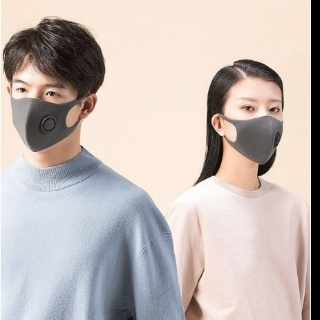with_mask: (10, 76, 78, 151), (223, 93, 283, 164)
